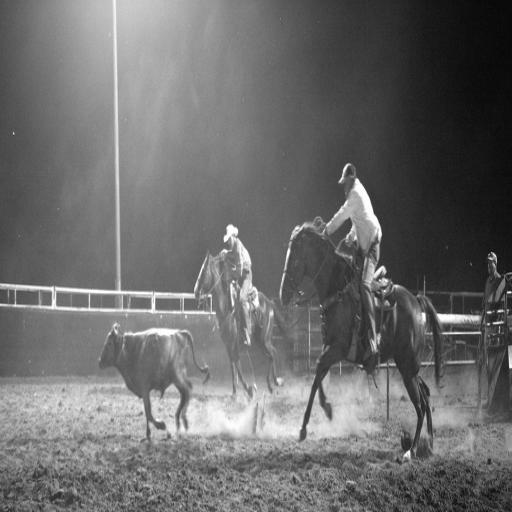Horse: (277, 225, 448, 461), (193, 244, 292, 397)
